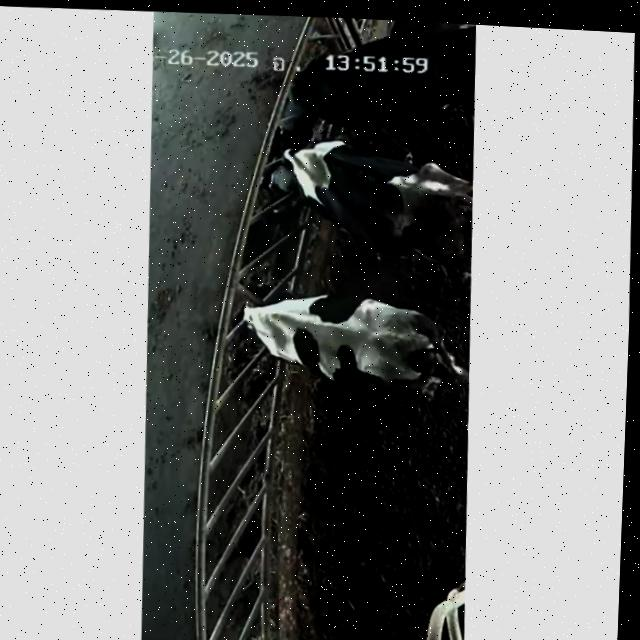eat: (231, 127, 386, 234), (230, 26, 388, 126), (195, 267, 332, 365)
